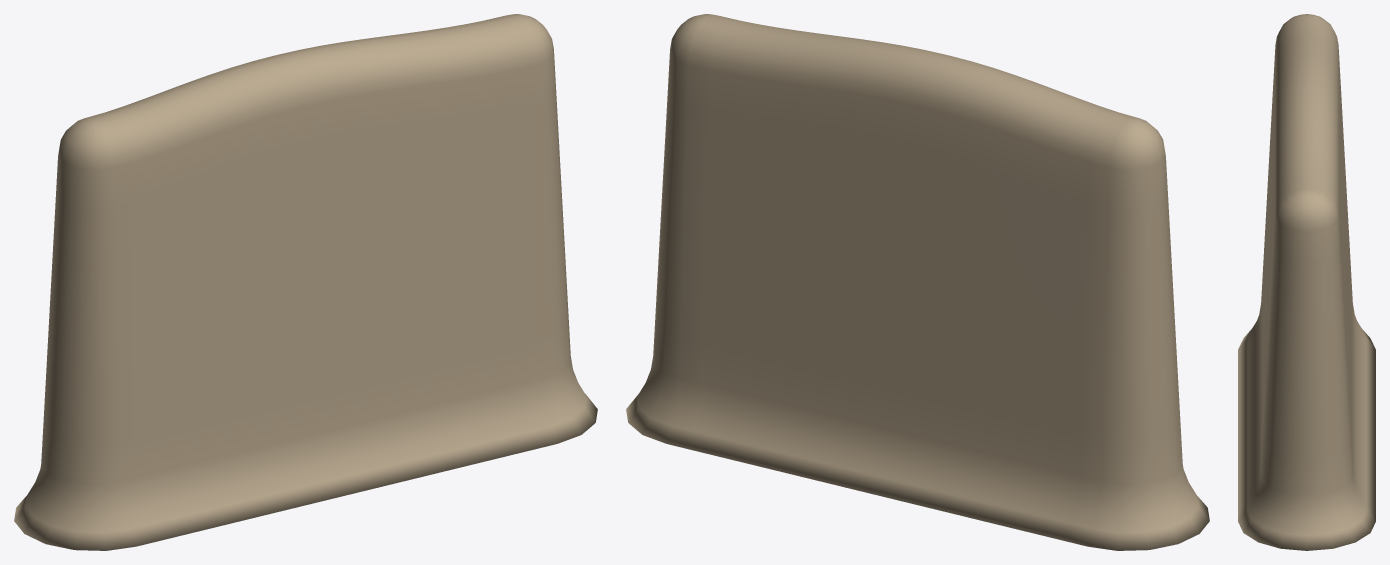
Rendered from KFB_Wall_straight_capped.r4.glb.
3 views of the same model, side by side, from view 1: azimuth 30°, elevation 25°; view 2: azimuth 150°, elevation 25°; view 3: azimuth 270°, elevation 25° (orthographic). The views are drawn at different scales.
Visible parts, largest first — view 1: KFB_Wall_straight_capped; view 2: KFB_Wall_straight_capped; view 3: KFB_Wall_straight_capped.
Boxes of the visible parts, box(x1,y1,x2,y2) form: KFB_Wall_straight_capped: box(14, 14, 597, 550); KFB_Wall_straight_capped: box(626, 14, 1209, 550); KFB_Wall_straight_capped: box(1238, 14, 1375, 550).
Bounding box in the file's own units: 5.35 × 3.75 × 1.35.
